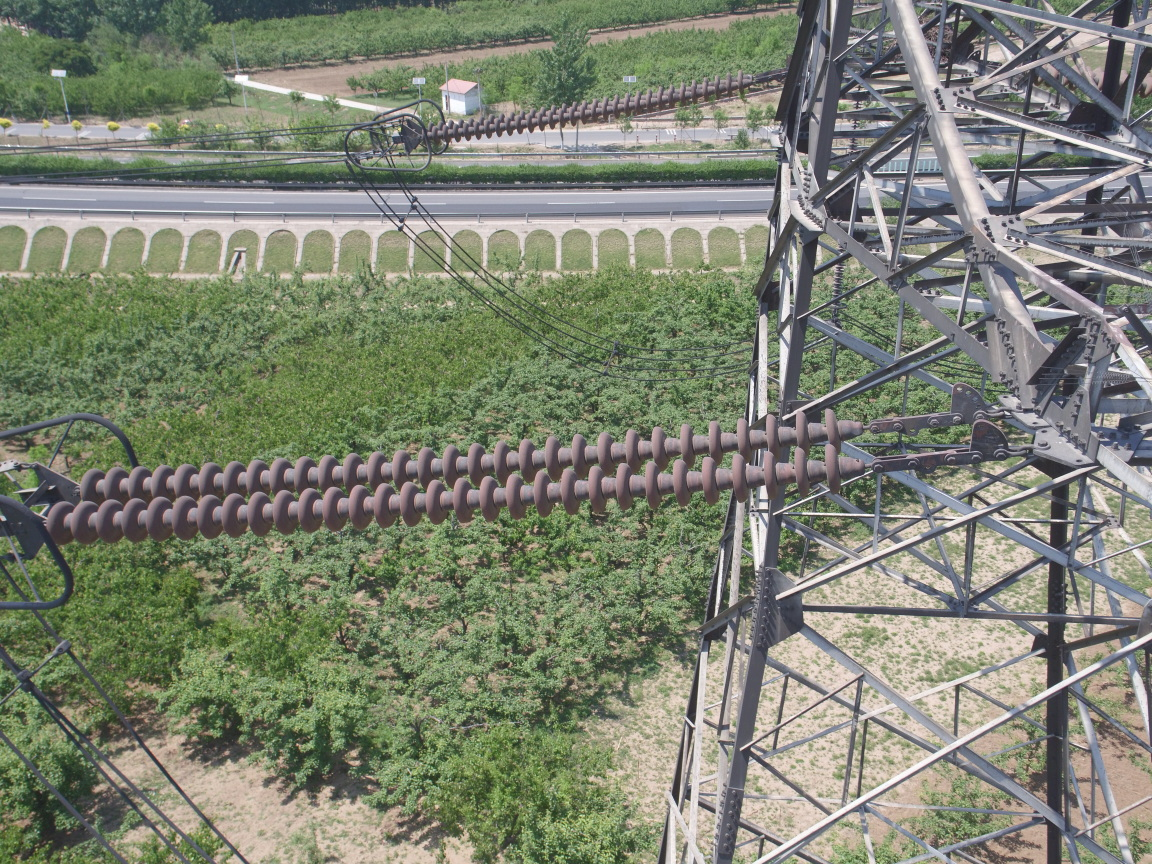insulator: (29, 400, 922, 550), (414, 64, 770, 148)
